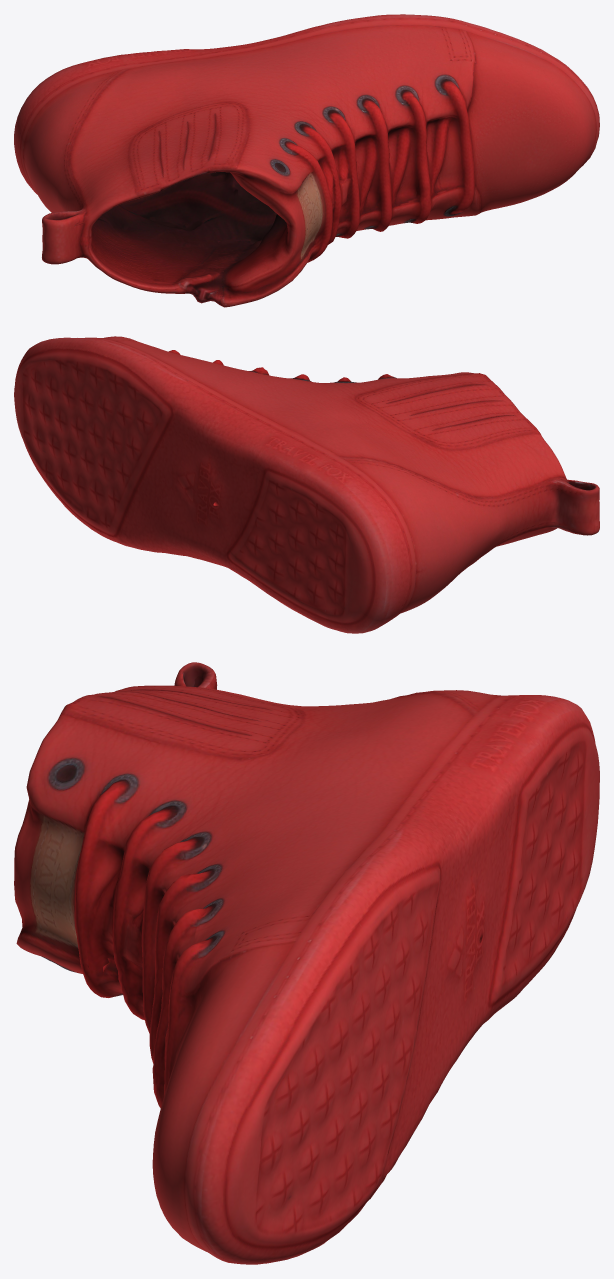
The picture shows the model from 3 angles, top to bottom: view 1: azimuth 30°, elevation 25°; view 2: azimuth 150°, elevation 25°; view 3: azimuth 270°, elevation 25°; orthographic projection. The views are drawn at different scales.
Parts seen in each view (by area): view 1: default; view 2: default; view 3: default.
Boxes of the visible parts, <box> form: default: <box>14,14,599,307</box>; default: <box>14,336,599,633</box>; default: <box>14,662,599,1264</box>.
Bounding box in the file's own units: 416 × 137 × 222.
